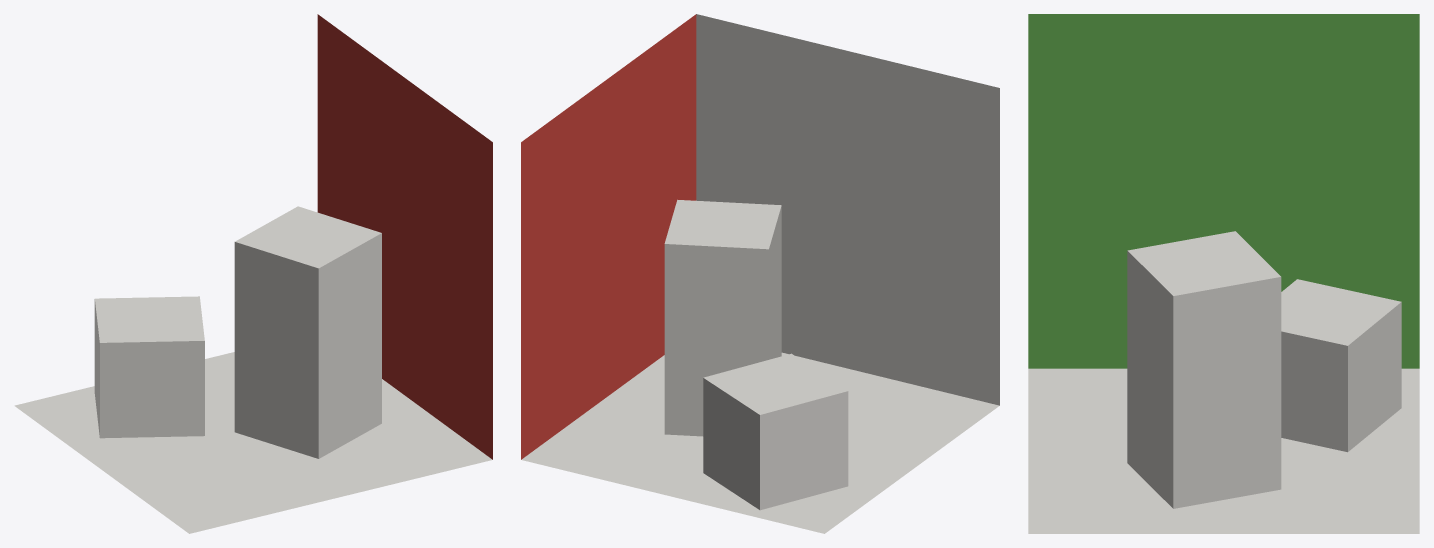
Rendered from CornellBox.gltf.
The picture shows the model from 3 angles, left to right: view 1: azimuth 30°, elevation 25°; view 2: azimuth 150°, elevation 25°; view 3: azimuth 270°, elevation 25°; orthographic projection. The views are drawn at different scales.
Parts seen in each view (by area): view 1: LeftWall, TallBox, Plane, ShortBox; view 2: BackWall, LeftWall, Plane, TallBox, ShortBox; view 3: RightWall, TallBox, Plane, ShortBox.
Part boxes in pixels (bbox=[...]): LeftWall: bbox=[317, 14, 492, 459]; TallBox: bbox=[234, 206, 381, 458]; Plane: bbox=[14, 352, 492, 533]; ShortBox: bbox=[94, 296, 204, 438]; BackWall: bbox=[696, 14, 999, 405]; LeftWall: bbox=[521, 14, 696, 459]; Plane: bbox=[521, 352, 999, 533]; TallBox: bbox=[664, 199, 781, 436]; ShortBox: bbox=[703, 353, 848, 510]; RightWall: bbox=[1028, 14, 1419, 368]; TallBox: bbox=[1127, 231, 1281, 508]; Plane: bbox=[1028, 368, 1419, 533]; ShortBox: bbox=[1281, 279, 1401, 452].
Size of the model in its own units: 10 by 10 by 10.
